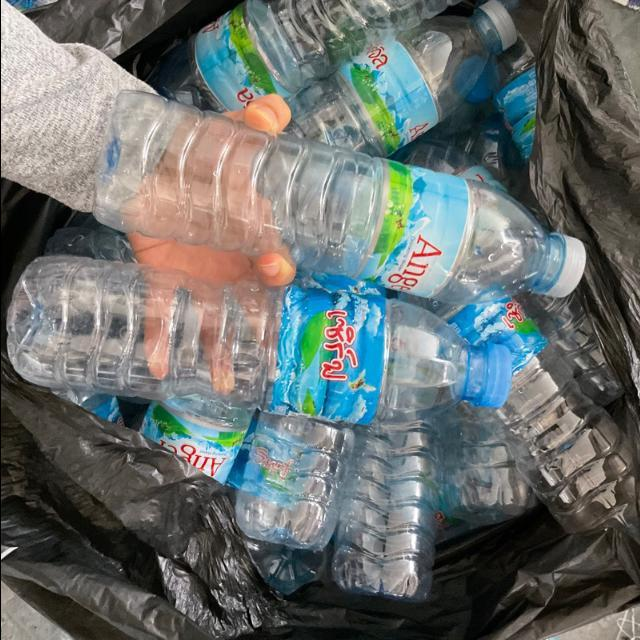PET Bottle: (105, 80, 601, 299), (2, 236, 504, 417), (200, 9, 506, 131)
